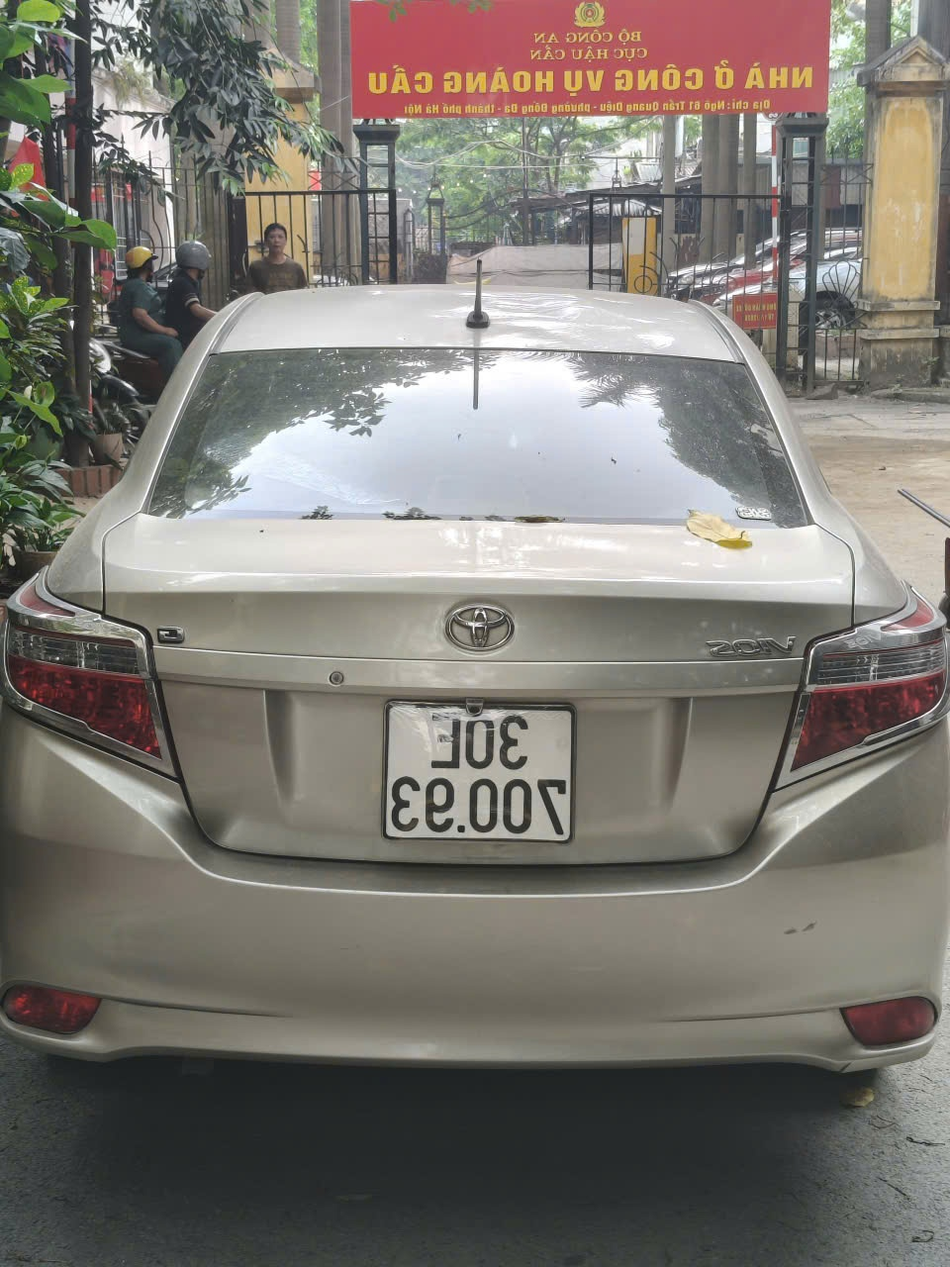plate: (437, 61, 560, 97)
